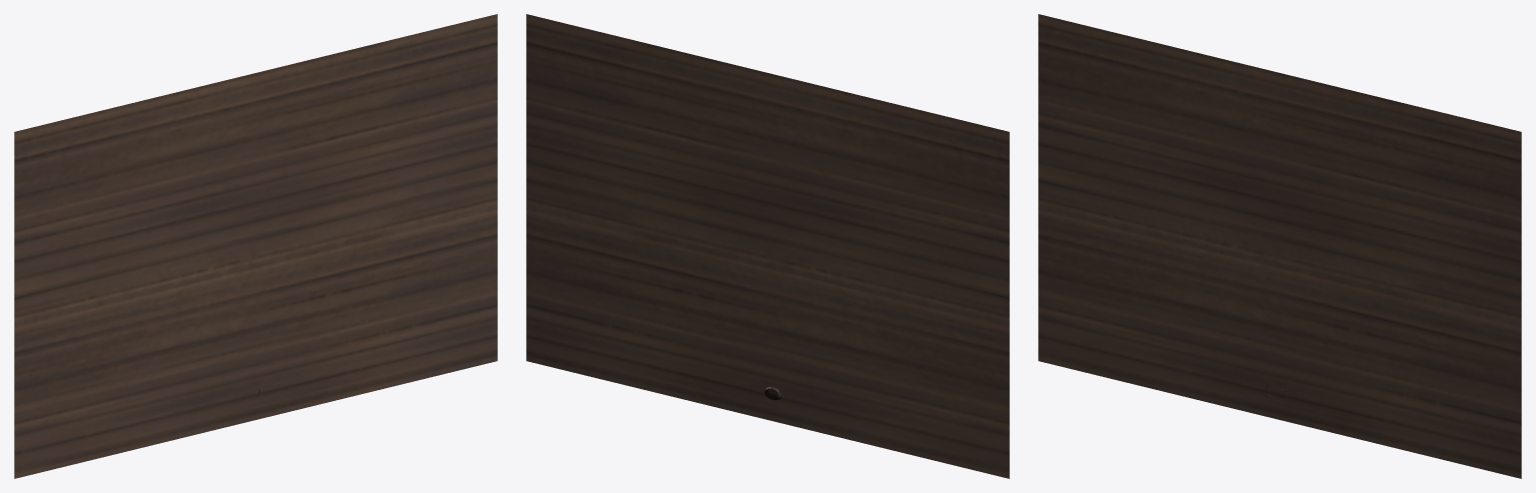
The model's file is usa_garaj.obj.
3 views of the same model, side by side, from view 1: azimuth 30°, elevation 25°; view 2: azimuth 150°, elevation 25°; view 3: azimuth 330°, elevation 25° (orthographic).
Parts seen in each view (by area): view 1: Garage_Cube.002; view 2: Garage_Cube.002; view 3: Garage_Cube.002.
Boxes of the visible parts, box(x1,y1,x2,y2) form: Garage_Cube.002: box(14, 14, 497, 478); Garage_Cube.002: box(526, 14, 1009, 478); Garage_Cube.002: box(1038, 14, 1521, 478).
Size of the model in its own units: 2.94 by 2.02 by 0.0137.
1 material, 1 textured.
